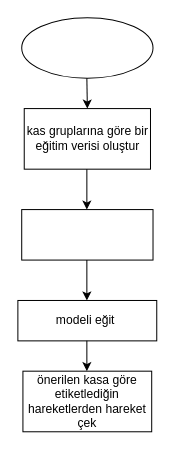
This 175x449 diagram has some shape labels left out. The centre of each missing label's shape, as x and y in pixels:
"basla" belongs at point 87,47.
"hareketlere gerekli etiketlemeyi yap" belongs at point 87,234.
